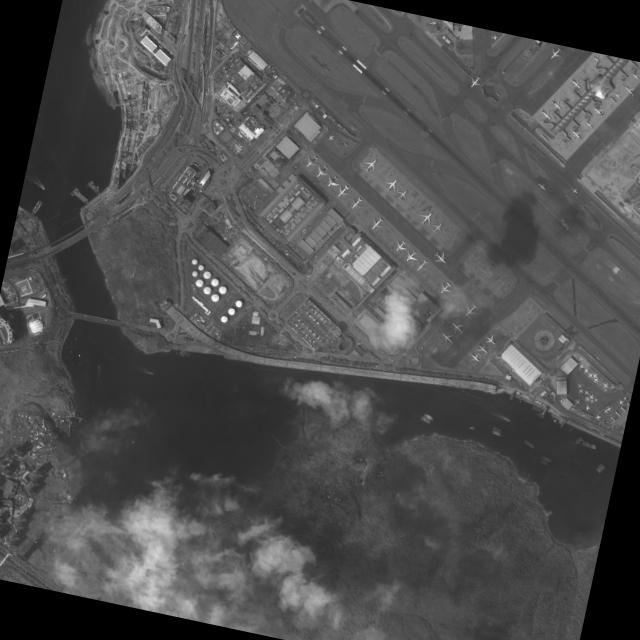plane: (366, 211, 387, 233), (359, 153, 380, 175), (459, 299, 480, 320), (380, 173, 401, 194), (416, 206, 436, 227), (300, 150, 320, 171), (429, 247, 449, 267), (437, 327, 457, 347), (311, 160, 331, 180), (333, 180, 352, 200), (346, 192, 365, 212), (411, 254, 430, 274), (400, 245, 419, 265), (321, 171, 341, 190), (435, 277, 454, 296), (536, 104, 554, 123), (566, 73, 584, 92), (447, 318, 466, 336), (390, 236, 408, 254), (545, 44, 564, 61), (466, 72, 483, 90), (567, 125, 584, 142), (428, 218, 445, 235), (547, 95, 564, 112), (393, 185, 410, 202), (621, 81, 637, 98), (482, 330, 498, 347), (473, 339, 490, 355), (589, 103, 606, 119), (466, 349, 481, 363), (583, 118, 594, 129), (590, 52, 601, 63), (535, 180, 546, 191), (612, 89, 622, 100), (630, 70, 640, 81), (568, 184, 578, 194), (590, 374, 599, 383), (600, 380, 609, 389), (589, 370, 598, 379), (326, 132, 334, 141), (582, 393, 590, 402), (615, 397, 624, 405), (572, 396, 581, 404), (581, 365, 589, 374), (575, 386, 583, 394), (581, 387, 589, 395), (585, 370, 593, 378), (427, 18, 436, 25), (575, 381, 582, 389), (601, 406, 609, 413), (577, 362, 584, 369), (587, 392, 594, 399), (584, 403, 591, 410), (593, 412, 600, 419), (490, 33, 497, 39), (605, 404, 611, 411), (588, 397, 594, 403), (621, 394, 627, 400), (602, 386, 607, 392), (592, 396, 597, 402), (196, 187, 202, 192), (578, 355, 582, 360)
ship: (581, 440, 596, 448), (522, 438, 534, 448), (538, 453, 551, 462), (84, 178, 94, 187), (69, 185, 78, 195), (422, 412, 433, 420), (419, 415, 430, 423), (573, 435, 582, 444), (490, 428, 500, 436), (538, 457, 548, 465), (490, 425, 500, 432), (534, 410, 543, 417), (503, 416, 509, 420), (467, 425, 475, 428), (180, 349, 183, 355), (567, 427, 571, 431), (516, 397, 520, 401), (182, 350, 185, 355), (177, 349, 180, 354), (174, 349, 177, 354), (130, 439, 134, 442), (186, 350, 188, 355), (184, 350, 186, 355), (179, 349, 181, 354), (149, 371, 153, 373), (97, 364, 99, 367), (77, 353, 79, 356), (74, 336, 76, 339), (41, 186, 44, 188), (188, 351, 189, 355), (78, 418, 79, 421), (69, 350, 71, 351), (78, 361, 79, 363)
storage-tank: (201, 284, 211, 294), (217, 284, 226, 294), (209, 292, 219, 301), (209, 277, 218, 286), (201, 269, 210, 278), (194, 277, 203, 286), (234, 298, 242, 307), (226, 306, 235, 314), (219, 313, 227, 322), (196, 263, 203, 270), (190, 257, 197, 264), (191, 269, 197, 276), (205, 311, 208, 314), (207, 310, 210, 312), (204, 310, 206, 312)
